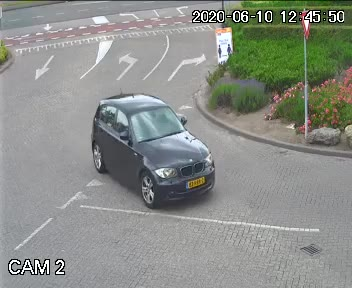car: (83, 90, 239, 210)
